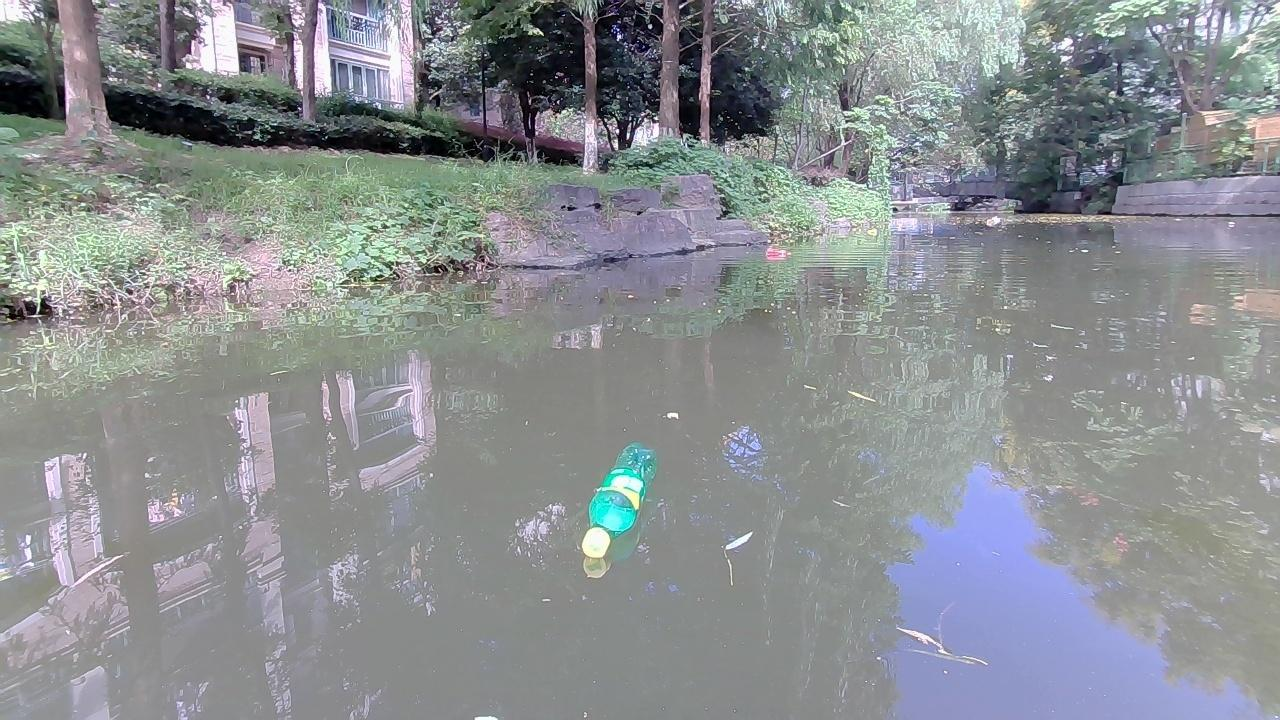bottle: (582, 441, 660, 555), (762, 245, 794, 257)
